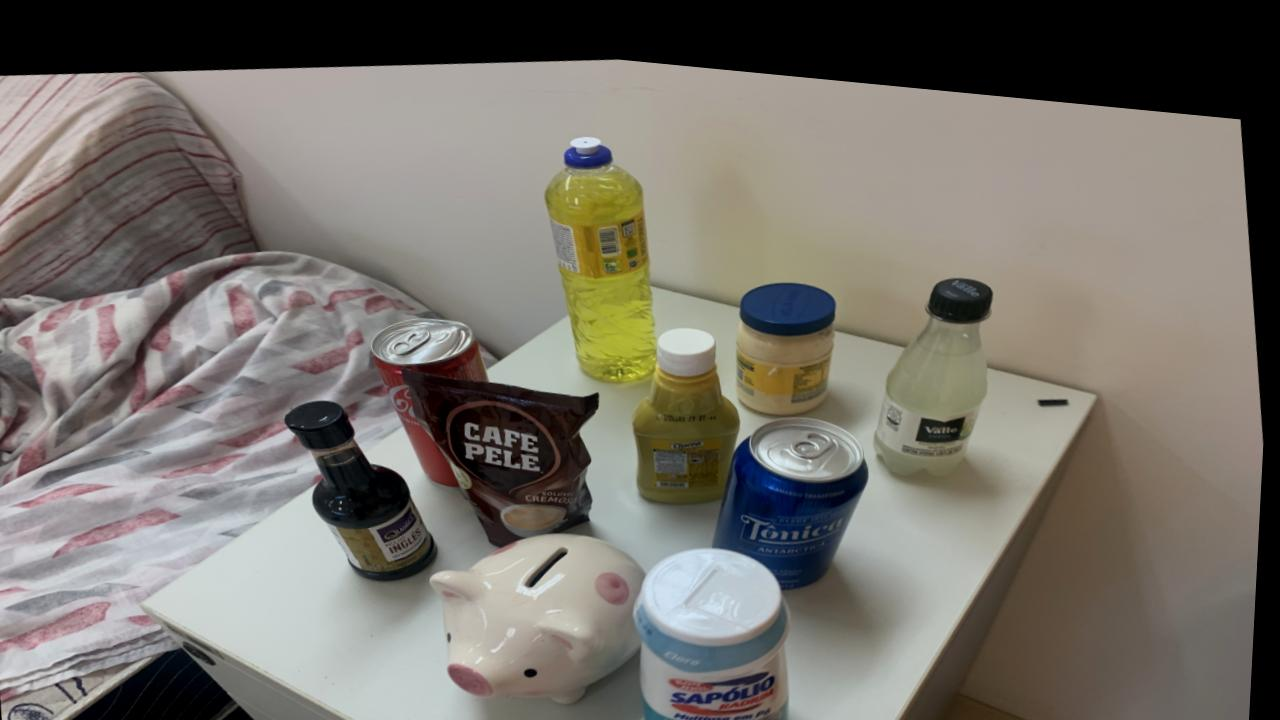Cleaner-Cleanup_Items: (640, 533, 796, 720)
Coffee-Pantry_Items: (407, 363, 602, 533)
Coke-Drinks: (374, 308, 492, 477)
Detergent-Cleanup_Items: (547, 125, 660, 369)
English_Sauce-Pantry_Items: (288, 394, 441, 573)
Mustard-Pantry_Items: (637, 315, 744, 489), (739, 266, 839, 399)
Pig_Safe-Miscellaneous: (436, 522, 651, 692)
Soda-Drinks: (877, 258, 995, 456)
Tonic-Drinks: (718, 400, 873, 572)
